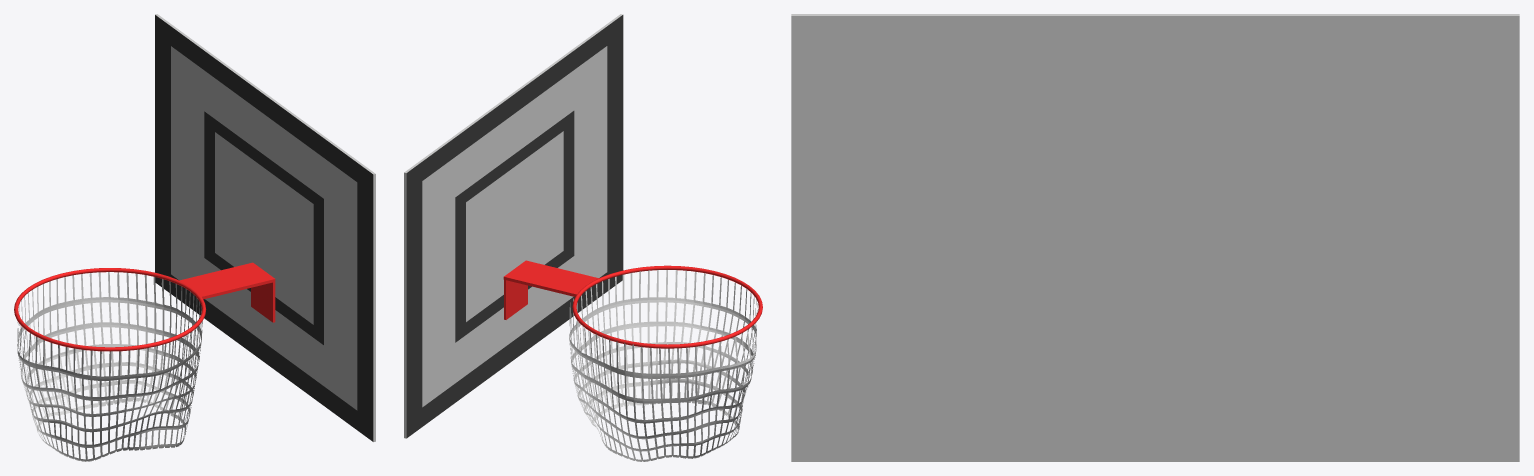
Rendered from BasketballHoop-Ep6.fbx.
The picture shows the model from 3 angles, left to right: view 1: azimuth 30°, elevation 25°; view 2: azimuth 150°, elevation 25°; view 3: azimuth 270°, elevation 25°; orthographic projection. The views are drawn at different scales.
Parts seen in each view (by area): view 1: Fishing net; view 2: Fishing net; view 3: Fishing net.
Boxes of the visible parts, <box> form: Fishing net: <box>14,14,375,461</box>; Fishing net: <box>404,14,762,461</box>; Fishing net: <box>791,14,1519,461</box>.
Size of the model in its own units: 929 by 1120 by 1451.
